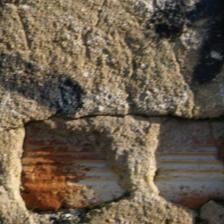Crack: (3, 52, 218, 83)
